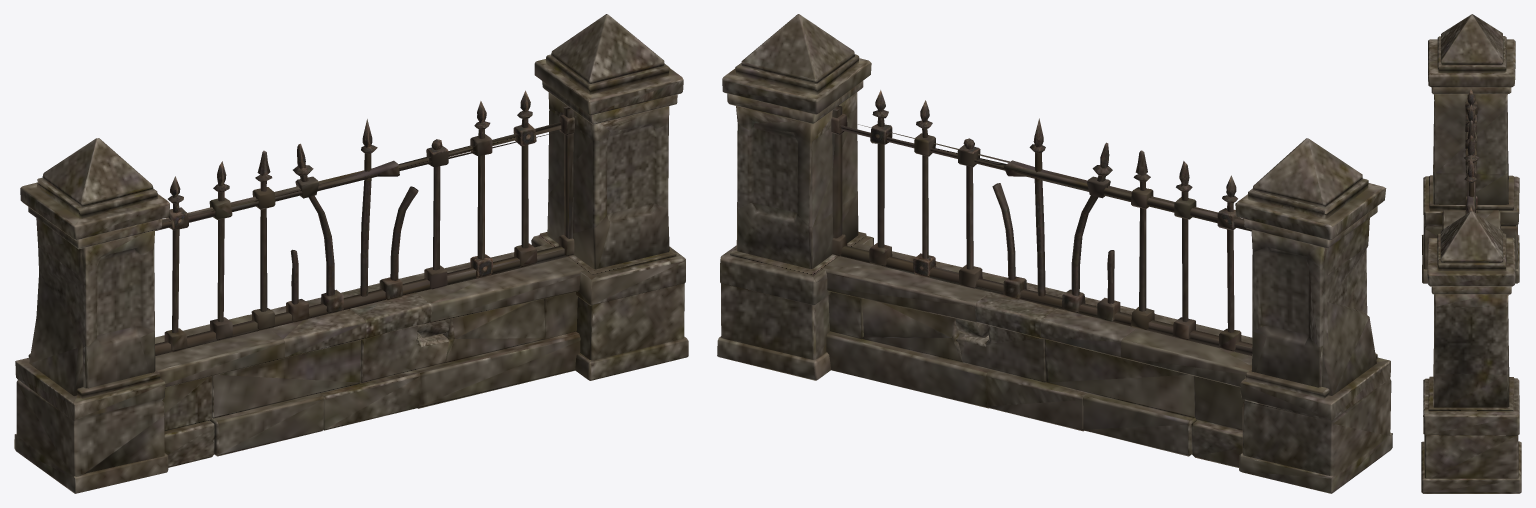
Rendered from h_fence_broken.glb.
3 views of the same model, side by side, from view 1: azimuth 30°, elevation 25°; view 2: azimuth 150°, elevation 25°; view 3: azimuth 270°, elevation 25° (orthographic). The views are drawn at different scales.
Visible parts, largest first — view 1: h_fence_broken; view 2: h_fence_broken; view 3: h_fence_broken.
Boxes of the visible parts, box(x1,y1,x2,y2) form: h_fence_broken: box(14, 14, 688, 493); h_fence_broken: box(717, 14, 1392, 493); h_fence_broken: box(1421, 14, 1521, 493).
Size of the model in its own units: 4 by 2.08 by 0.7193.
1 material, 1 textured.
